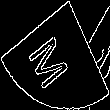M_NE: (31, 22, 79, 88)
